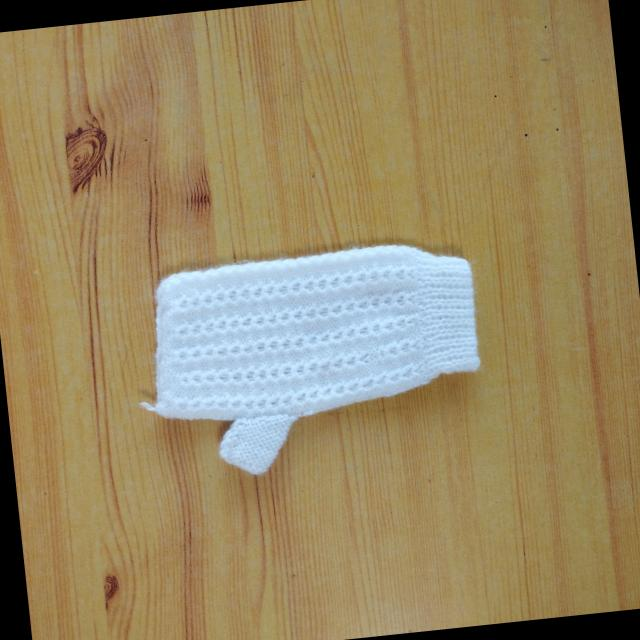Guante: (124, 234, 492, 486)
